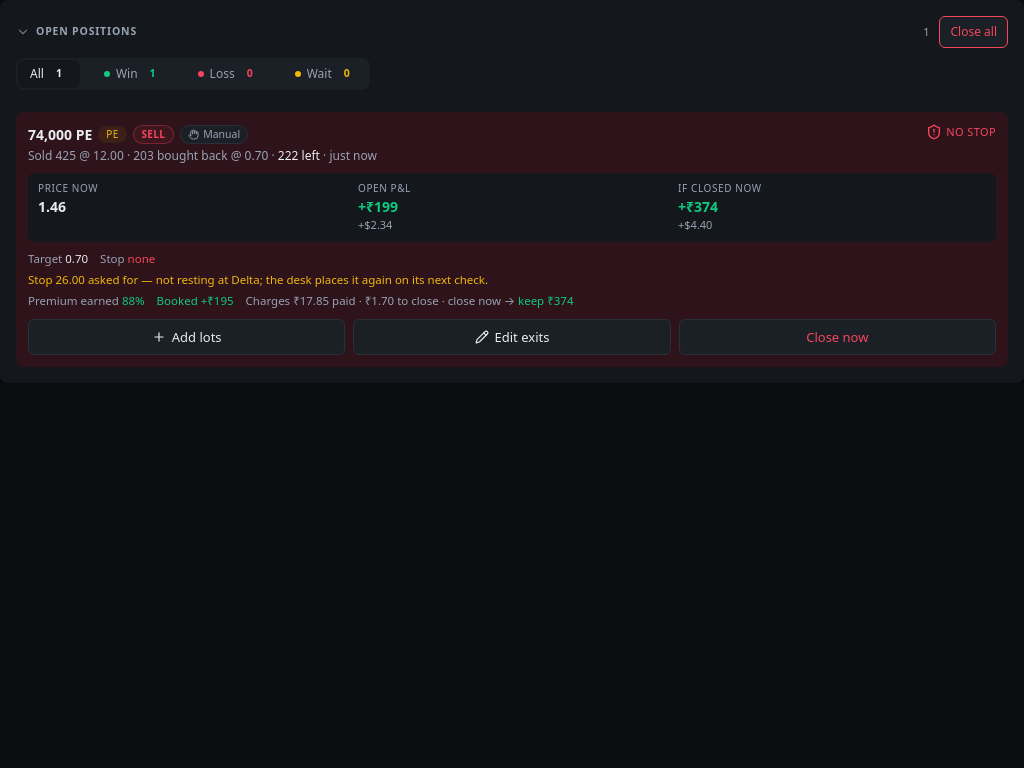
closing out › [critical] tapping Close now sends nothing: it asks first
Click the button "Close now" at coordinates (837, 337), box left=679, top=319, right=996, bottom=355
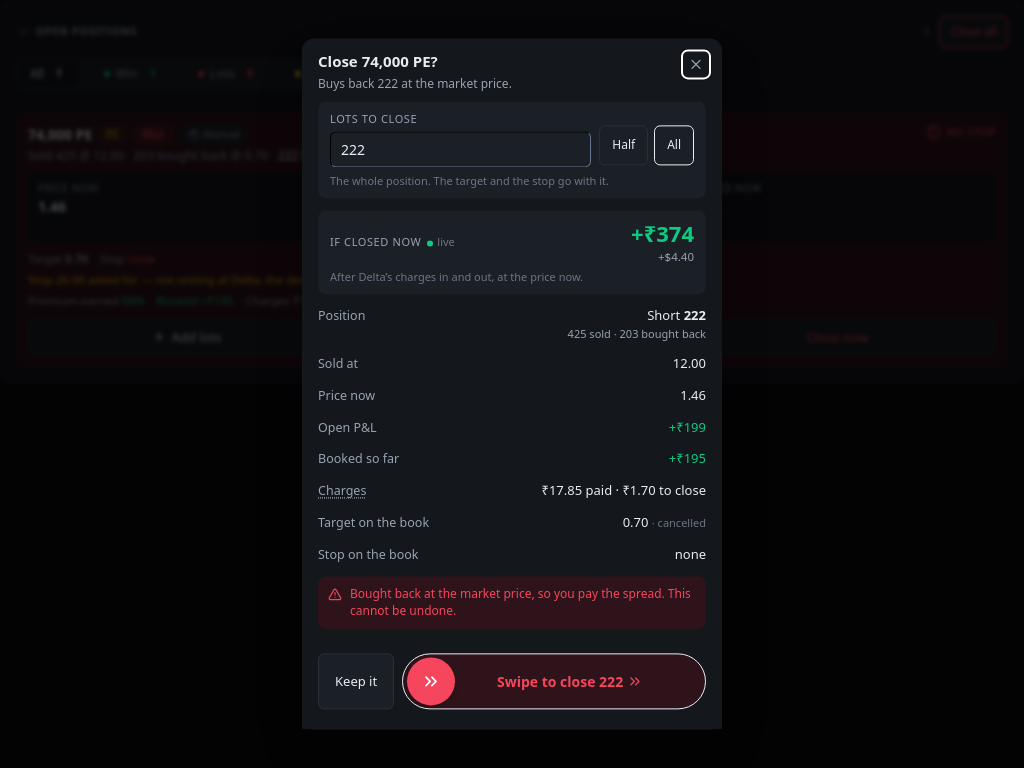
Check: the dialog "Close 74,000 PE?" is shown, box left=302, top=38, right=722, bottom=730
